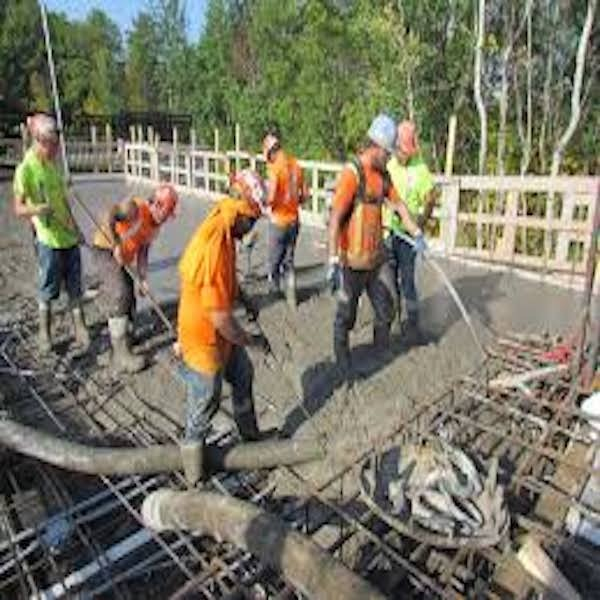helmet: (370, 113, 400, 154), (155, 180, 182, 215), (399, 120, 421, 155)
vest: (339, 161, 385, 274), (383, 157, 429, 243)
